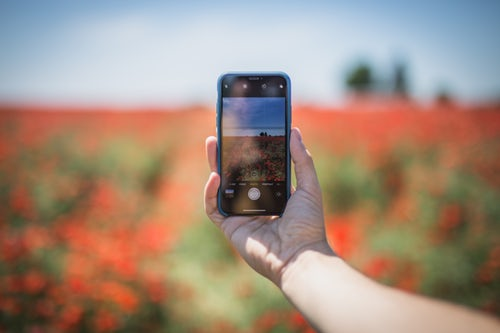phone: (215, 70, 296, 220)
